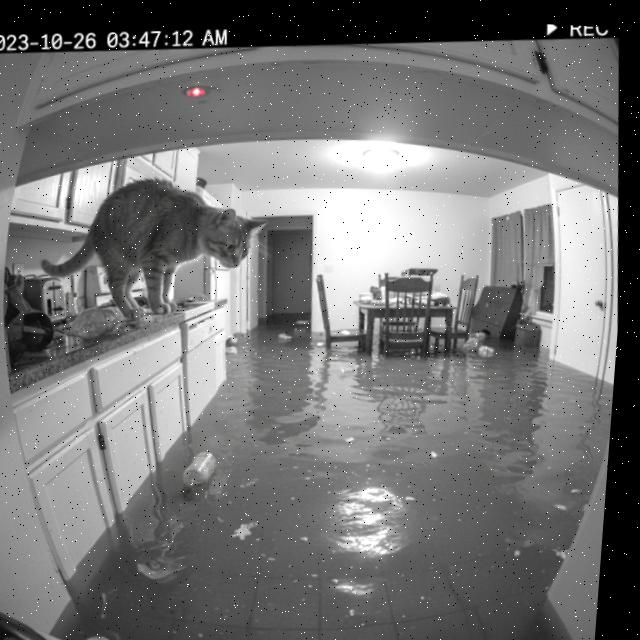cat: (28, 153, 281, 337)
